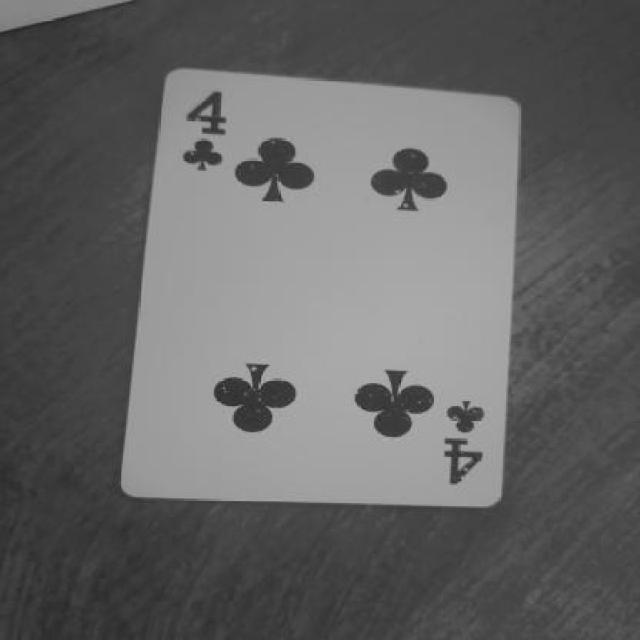4C: (436, 375, 496, 510), (178, 78, 248, 178)
